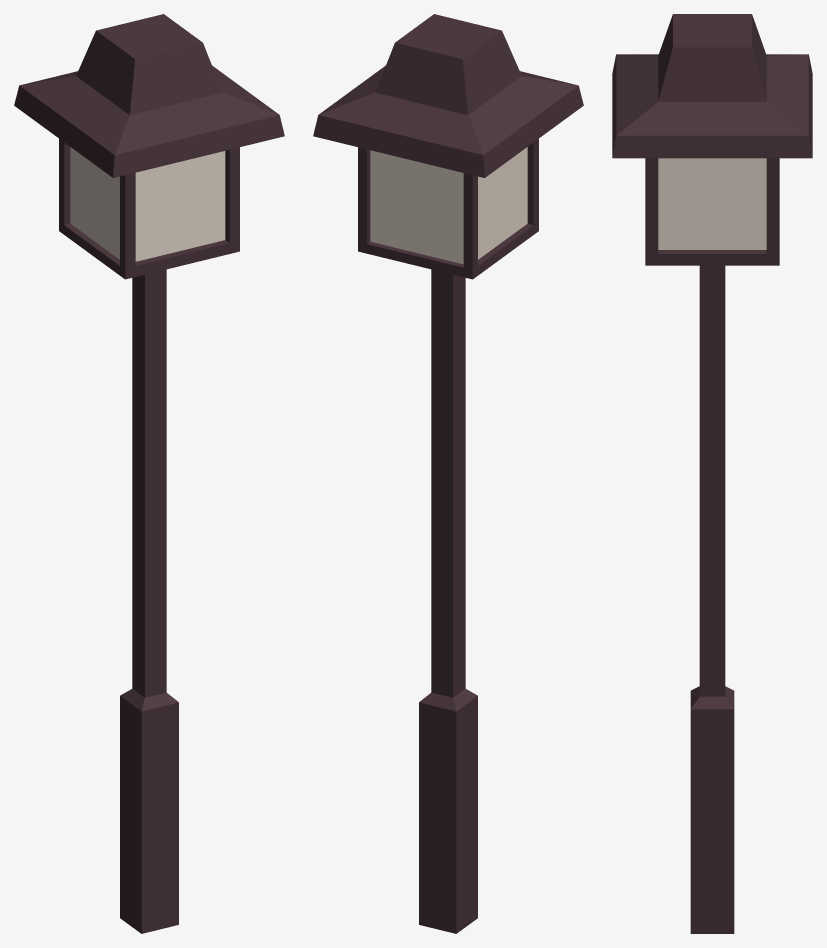
File: cube.050_bank1_0_lev1.glb
The picture shows the model from 3 angles, left to right: view 1: azimuth 30°, elevation 25°; view 2: azimuth 150°, elevation 25°; view 3: azimuth 270°, elevation 25°; orthographic projection.
Visible parts, largest first — view 1: cube.050_bank1_0_lev1; view 2: cube.050_bank1_0_lev1; view 3: cube.050_bank1_0_lev1.
Part boxes in pixels (x1=…): cube.050_bank1_0_lev1: x1=14, y1=14, x2=284, y2=933; cube.050_bank1_0_lev1: x1=313, y1=14, x2=583, y2=933; cube.050_bank1_0_lev1: x1=612, y1=14, x2=812, y2=933.
Size of the model in its own units: 0.0322 by 0.1586 by 0.0322.
1 material, 1 textured.
